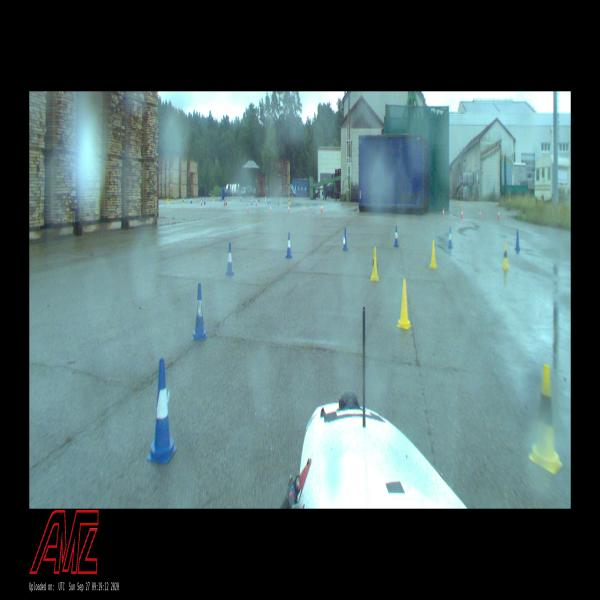blue_cone: (147, 360, 177, 464), (191, 284, 206, 339), (225, 244, 234, 275), (286, 232, 292, 258), (342, 228, 348, 250), (393, 226, 399, 247), (447, 228, 453, 248), (515, 230, 520, 251), (251, 198, 252, 205)
orange_cone: (320, 204, 323, 212), (270, 203, 272, 214), (479, 209, 481, 219), (498, 209, 500, 219), (442, 207, 444, 217), (461, 209, 463, 218), (288, 204, 290, 212), (246, 204, 248, 212), (303, 206, 305, 214), (255, 198, 257, 206), (200, 199, 202, 206), (224, 199, 225, 206)
yellow_cone: (528, 363, 563, 474), (397, 277, 411, 330), (370, 247, 378, 281), (429, 240, 437, 269), (502, 243, 508, 270)
